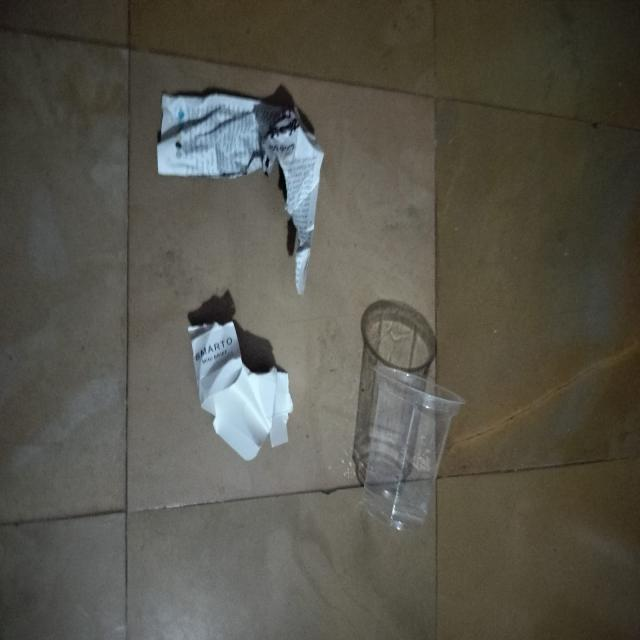dry: (156, 90, 326, 298), (359, 362, 467, 534), (189, 320, 294, 463)
